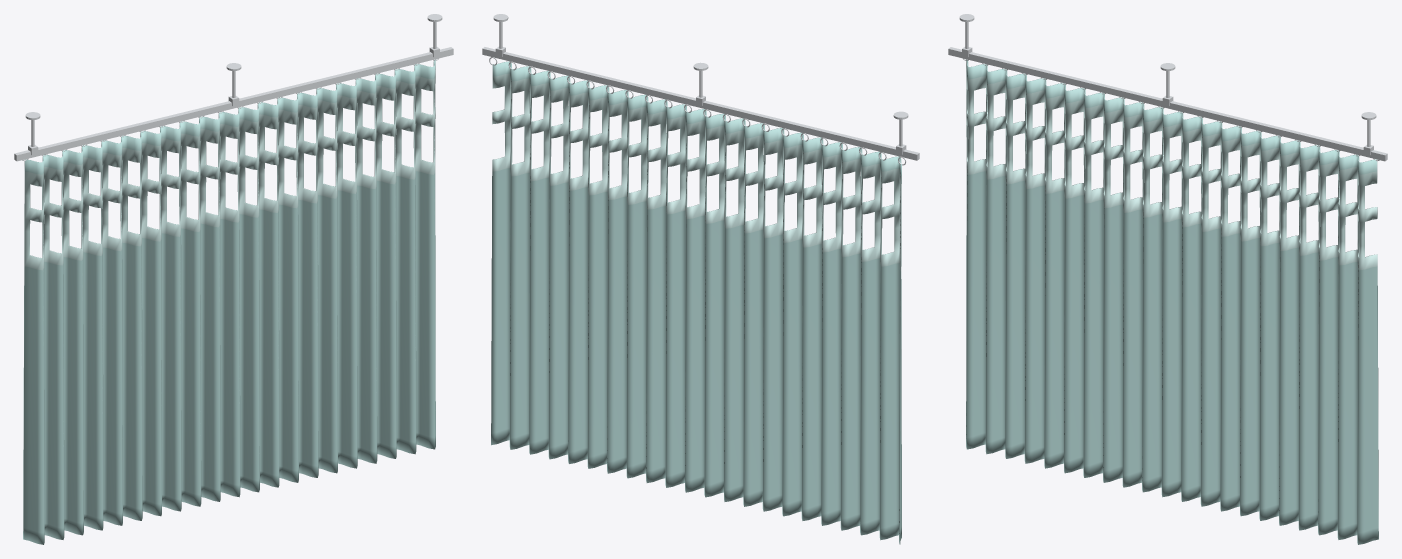
File: Hospital_cutton_v3.fbx
3 renders of one model, left to right at view 1: azimuth 30°, elevation 25°; view 2: azimuth 150°, elevation 25°; view 3: azimuth 330°, elevation 25°, orthographic.
Visible parts, largest first — view 1: 03_Straight_Intact_Curtain; view 2: 03_Straight_Intact_Curtain; view 3: 03_Straight_Intact_Curtain.
Part boxes in pixels (box(x1,y1,x2,y2)): 03_Straight_Intact_Curtain: box(14, 14, 453, 544); 03_Straight_Intact_Curtain: box(482, 14, 919, 544); 03_Straight_Intact_Curtain: box(948, 14, 1387, 544).
Bounding box in the file's own units: 240 × 224 × 10.52.
